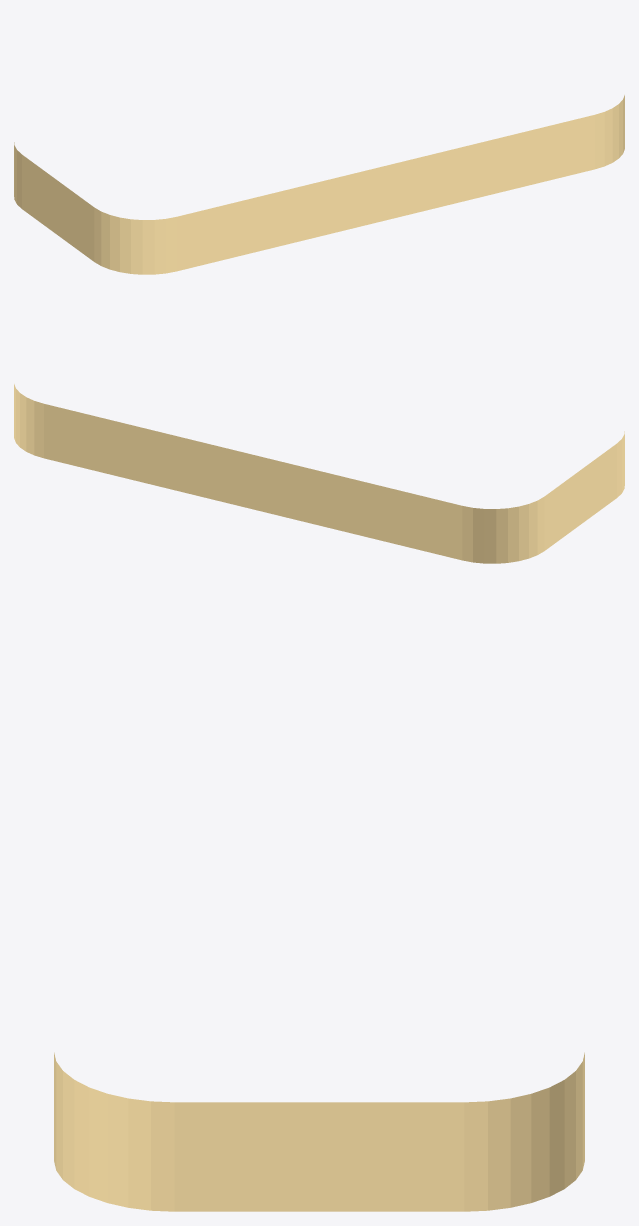
Rendered from mw_btn_back.glb.
3 renders of one model, top to bottom at view 1: azimuth 30°, elevation 25°; view 2: azimuth 150°, elevation 25°; view 3: azimuth 270°, elevation 25°, orthographic. The views are drawn at different scales.
Parts seen in each view (by area): view 1: btn; view 2: btn; view 3: btn.
Boxes of the visible parts, x1=… form: btn: x1=14, y1=95, x2=624, y2=274; btn: x1=14, y1=384, x2=624, y2=563; btn: x1=54, y1=1052, x2=584, y2=1211.
Bounding box in the file's own units: 0.5 × 0.05 × 0.22.
